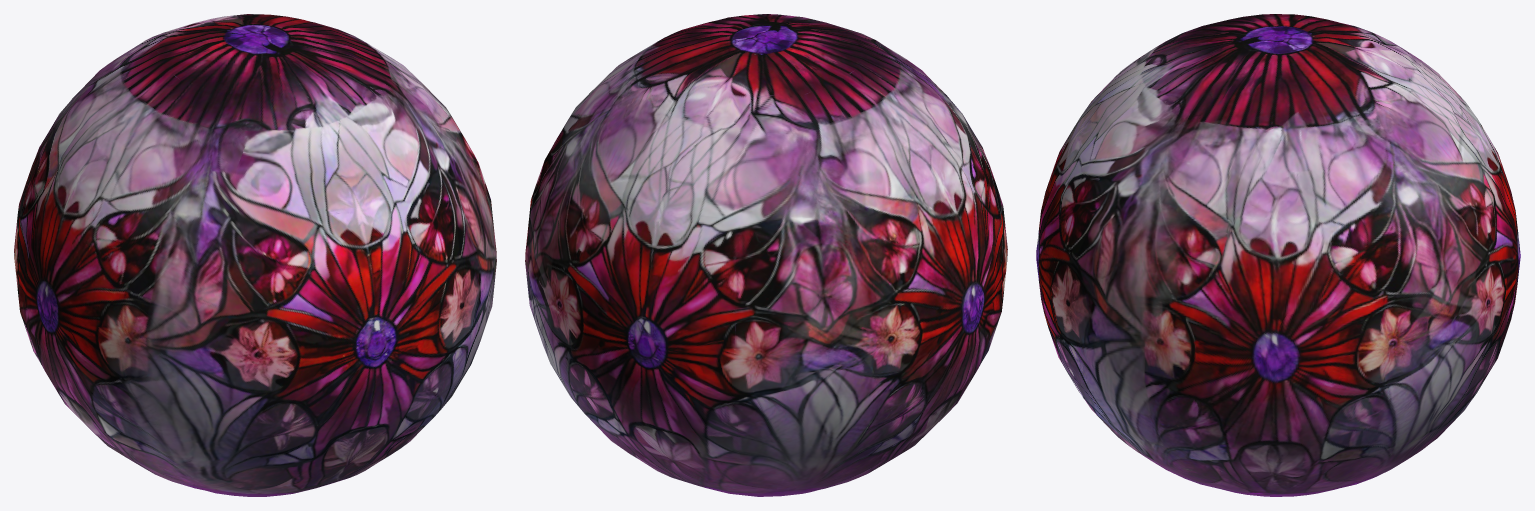
The model's file is testSphereStarFloral.glb.
3 views of the same model, side by side, from view 1: azimuth 30°, elevation 25°; view 2: azimuth 150°, elevation 25°; view 3: azimuth 270°, elevation 25° (orthographic).
Parts seen in each view (by area): view 1: Mesh_0; view 2: Mesh_0; view 3: Mesh_0.
Boxes of the visible parts, x1,y1,x2,y2 form: Mesh_0: (14, 14, 496, 496); Mesh_0: (525, 14, 1007, 496); Mesh_0: (1036, 14, 1520, 496).
Bounding box in the file's own units: 1 × 1 × 1.
1 material, 1 textured.
